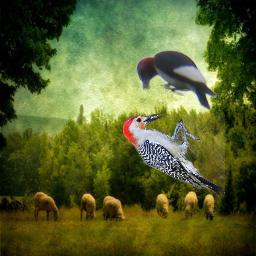Woodpecker: (123, 114, 225, 197), (133, 48, 219, 112)
